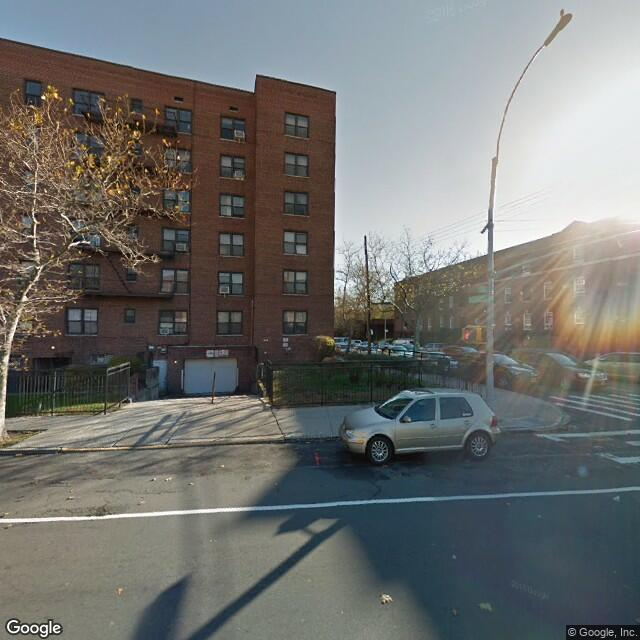litter: (377, 595, 403, 611)
